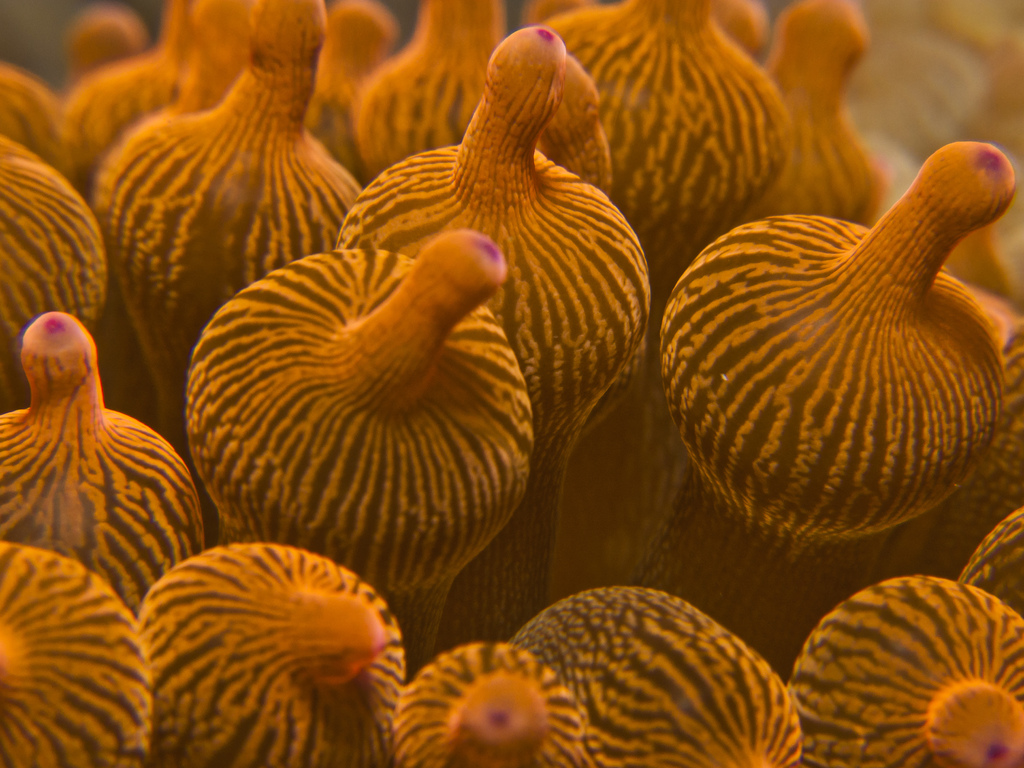person: (58, 0, 157, 101)
